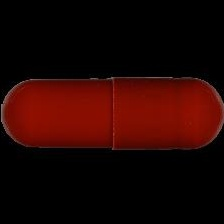55154-4223: (0, 0, 224, 224)
